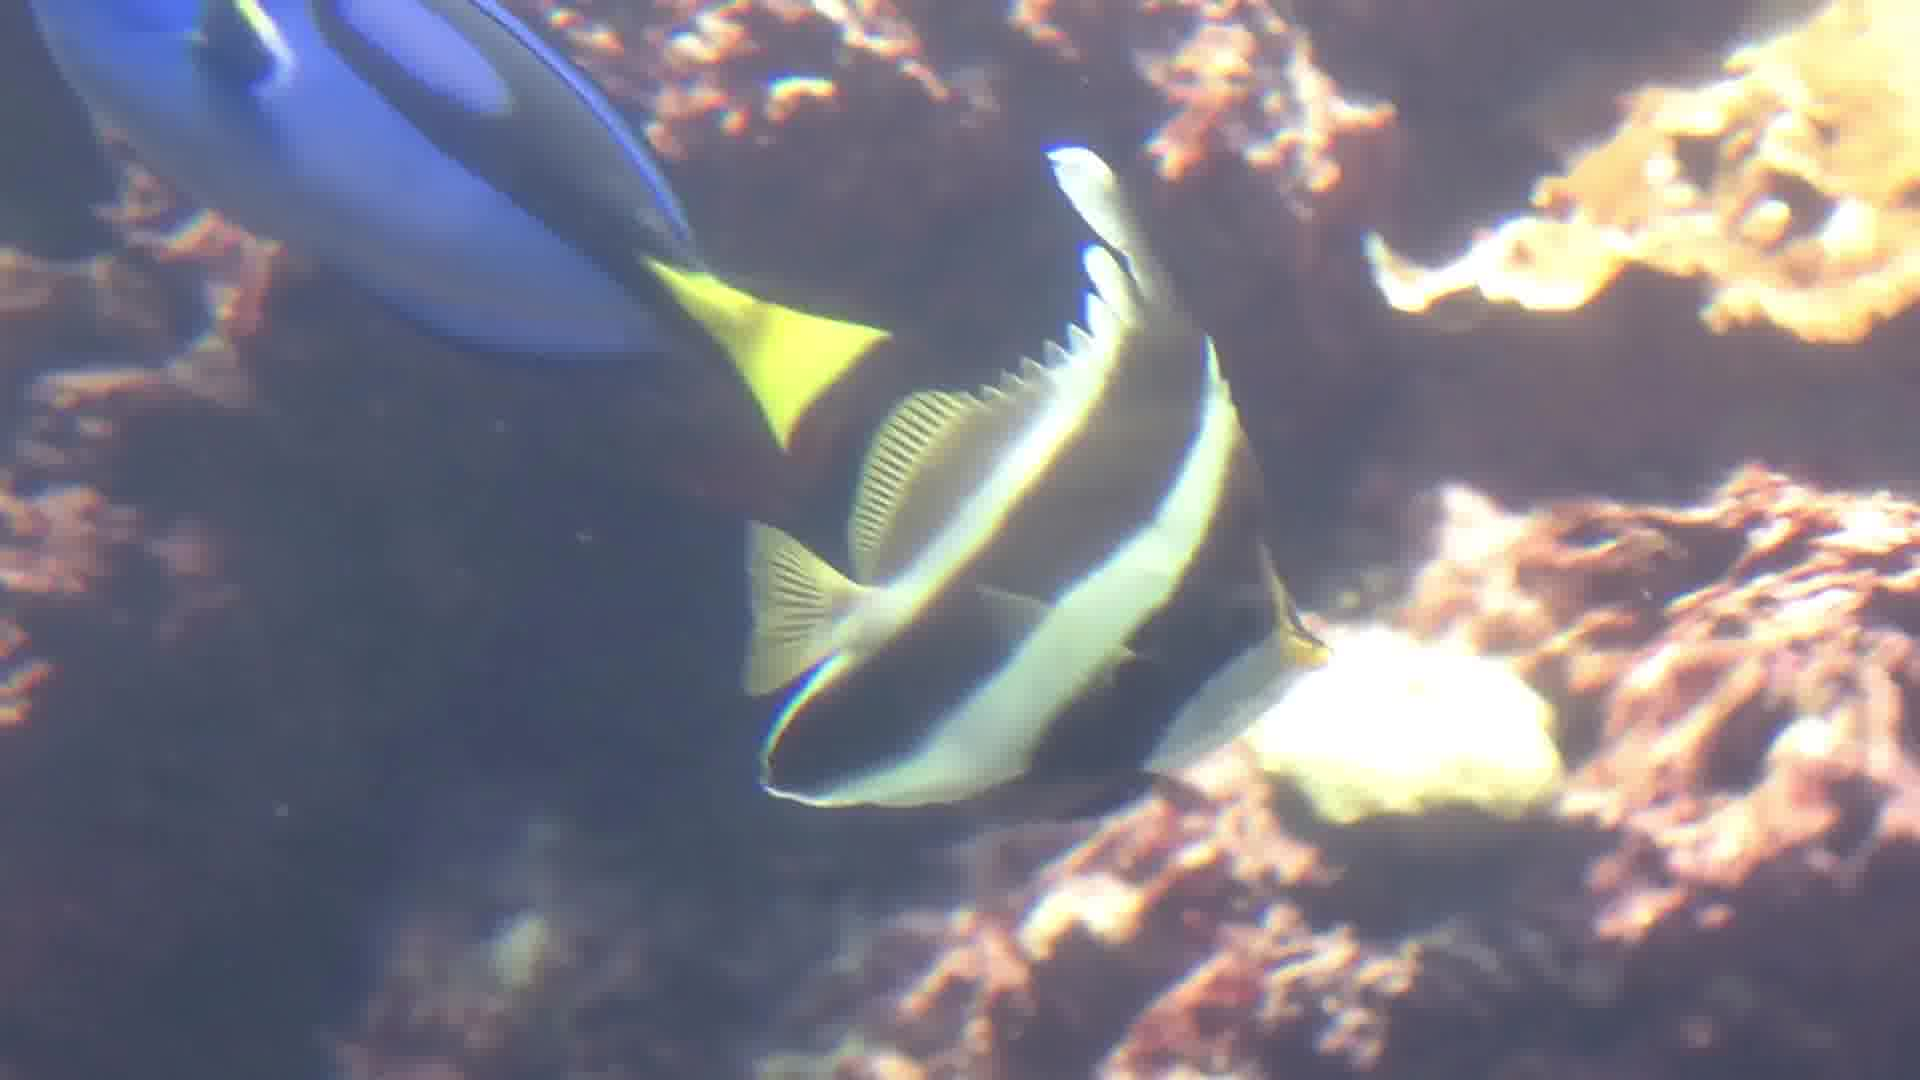Heniochus chrysostomus: (728, 102, 1400, 884)
